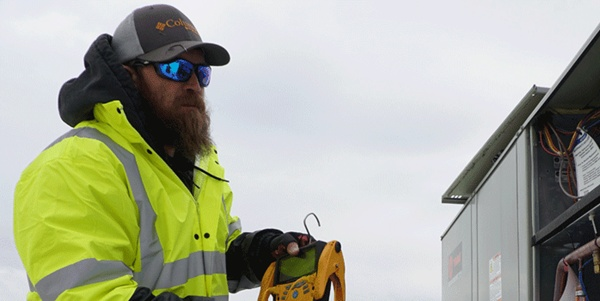person with partial safety: (32, 8, 248, 298)
safety vest: (25, 113, 235, 301)
